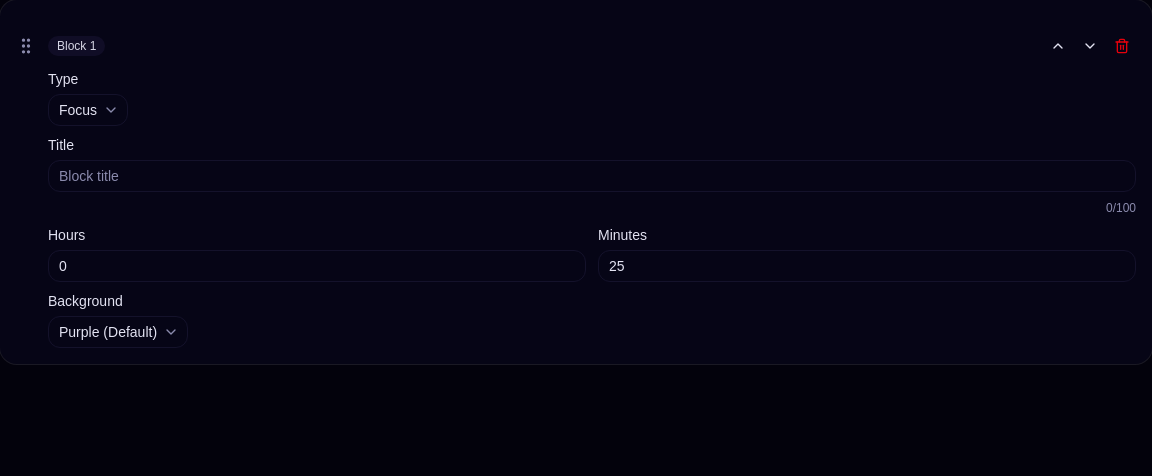
BlockCard › background selector has all 5 options
Click the dropdown labelled "Purple (Default)": coordinates (118, 332) [48,316,188,348]
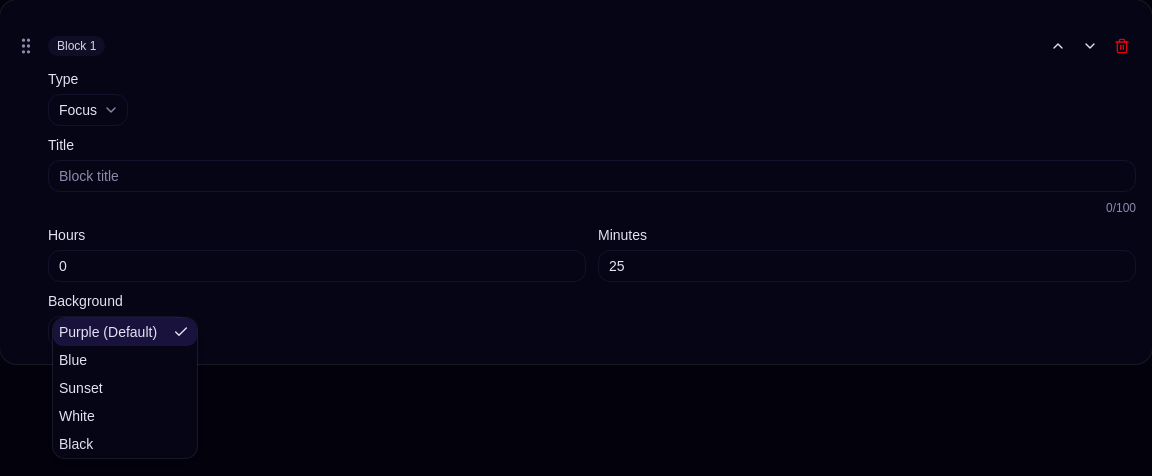
Now the option "Purple (Default)" is shown, box [53,318,197,346]
Now the option "Blue" is shown, box [59,352,87,368]
Now the option "Sunset" is shown, box [59,380,103,396]
